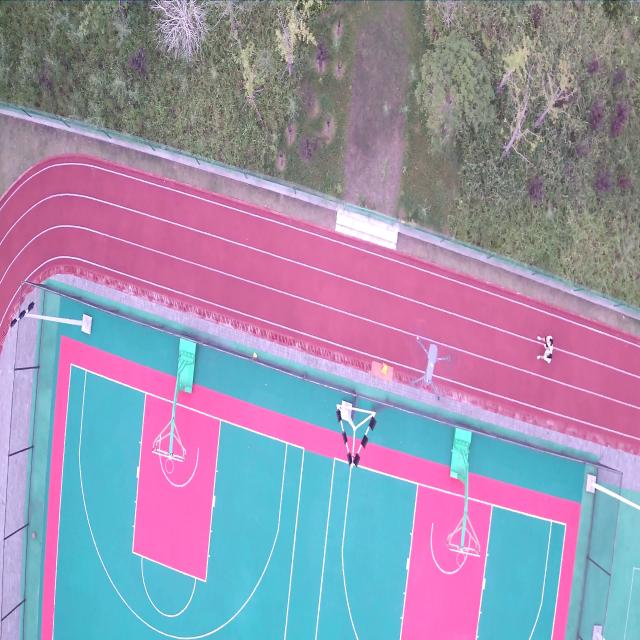UAV: (411, 337, 450, 400)
